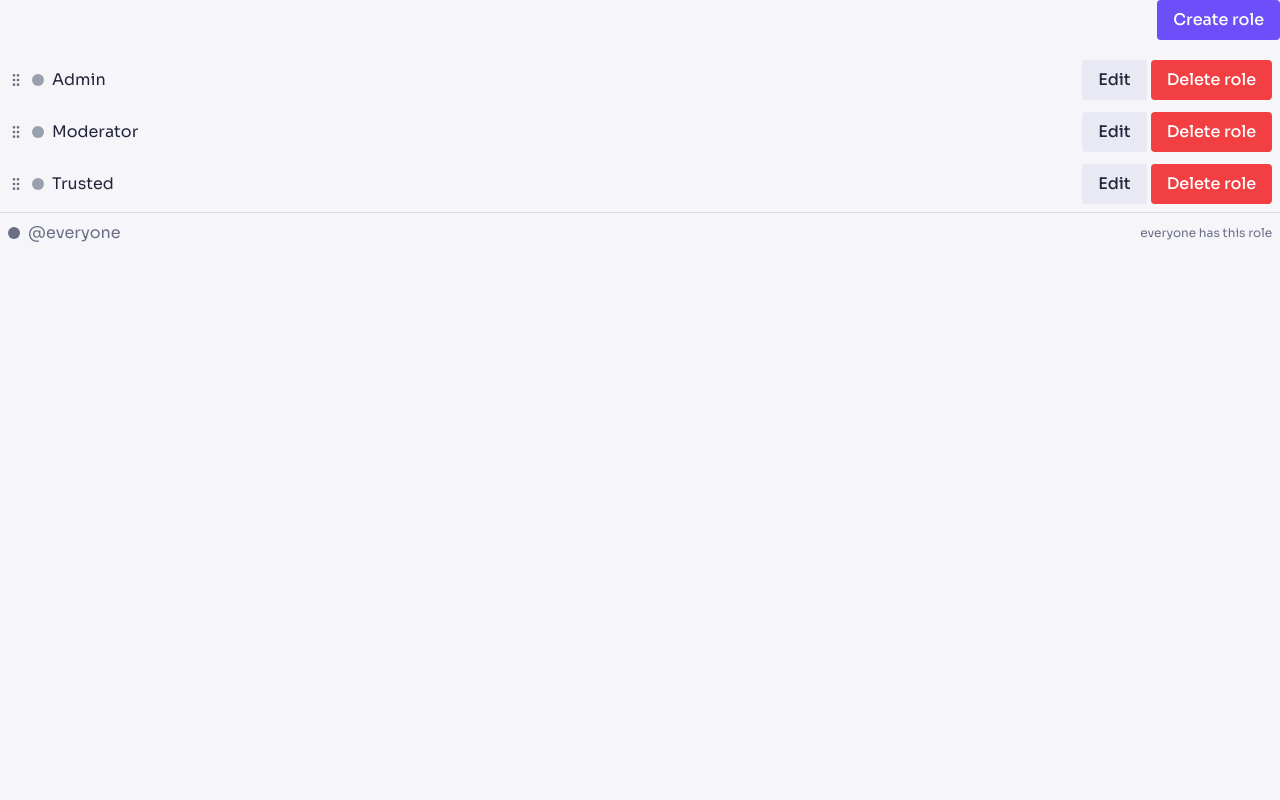
Test case: RolesTab › shows the backend error when a delete is rejected
Click the button "Delete role" in the row of "Trusted".
click(1211, 184)  # box 1151,164 -> 1272,204
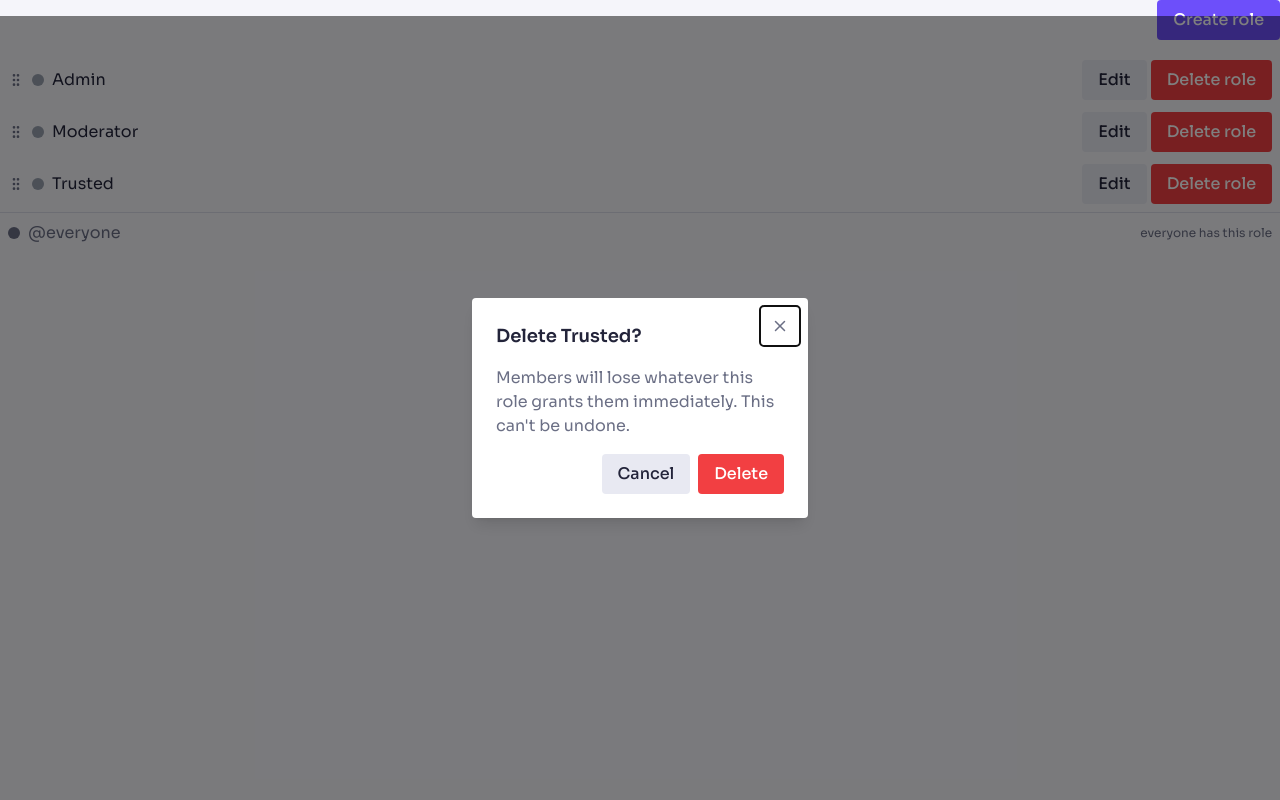
Click the button "Delete".
click(741, 474)  # box 698,454 -> 784,494
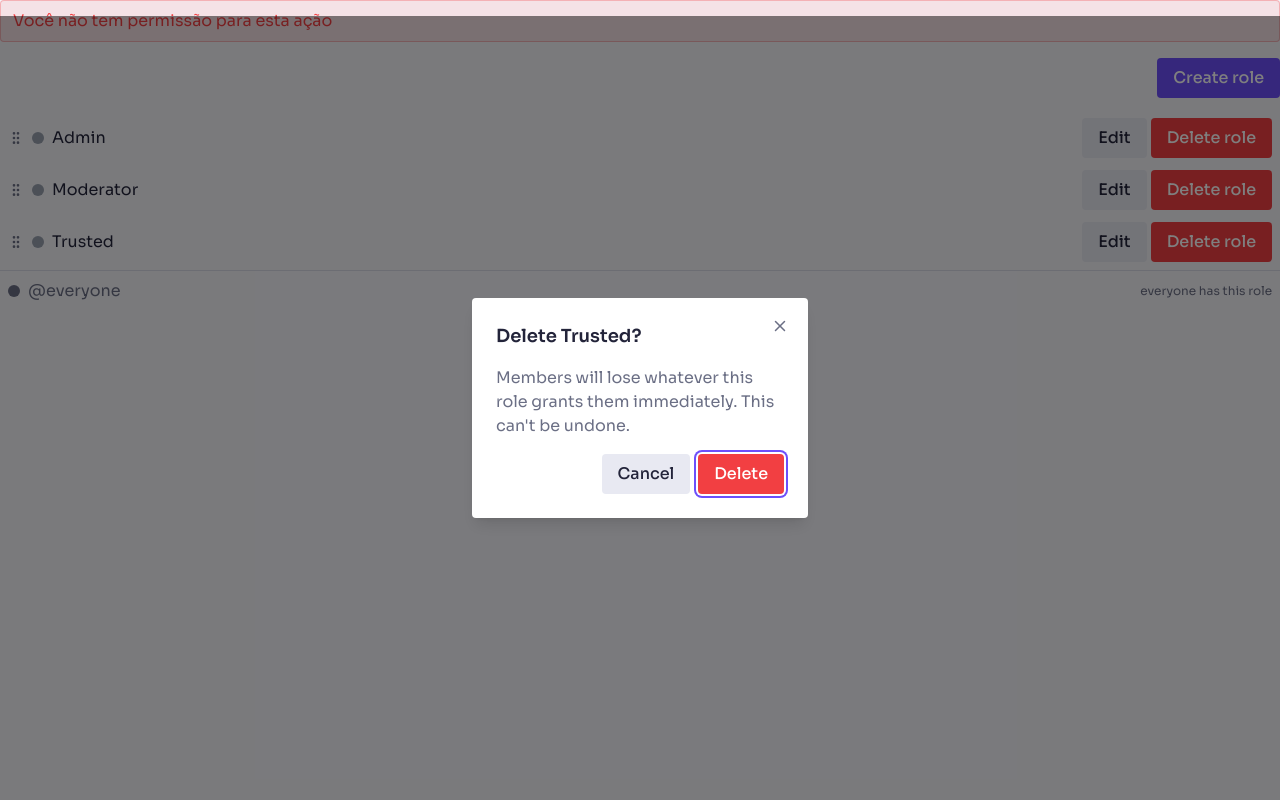
Expected: the message shows "não tem permissão", 13,10 -> 332,31
